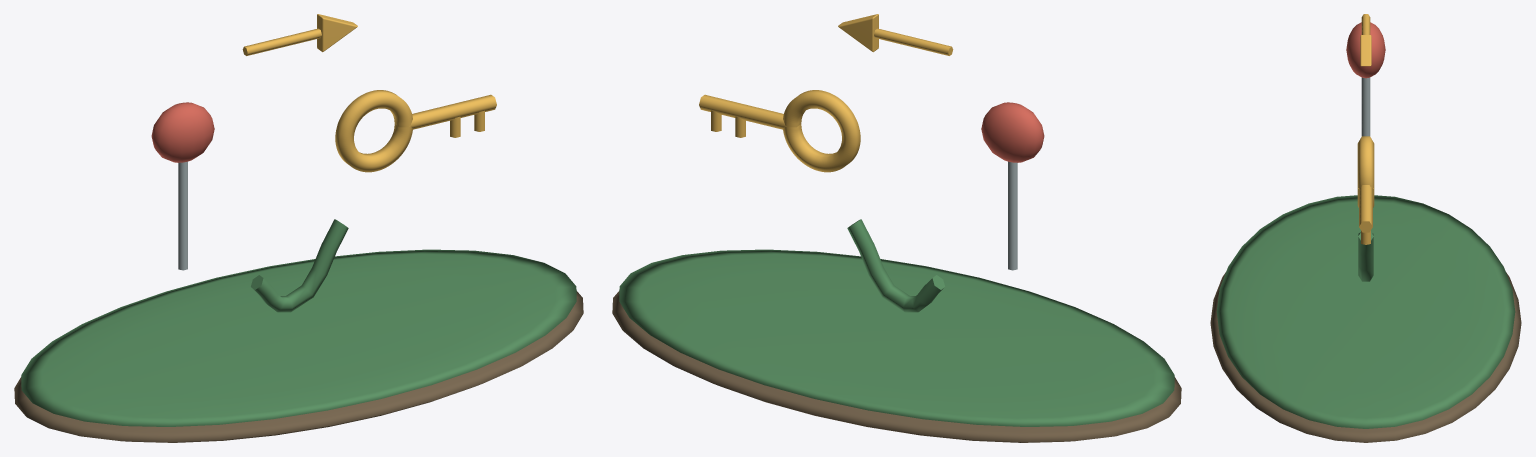
The model's file is complete-first-therefore-method-place.glb.
The picture shows the model from 3 angles, left to right: view 1: azimuth 30°, elevation 25°; view 2: azimuth 150°, elevation 25°; view 3: azimuth 270°, elevation 25°; orthographic projection. The views are drawn at different scales.
Visible parts, largest first — view 1: complete-first-therefore-method-place_surface_01, complete-first-therefore-method-place_surface_00, complete-first-therefore-method-place_surface_04, complete-first-therefore-method-place_surface_03, complete-first-therefore-method-place_surface_02; view 2: complete-first-therefore-method-place_surface_01, complete-first-therefore-method-place_surface_00, complete-first-therefore-method-place_surface_04, complete-first-therefore-method-place_surface_03, complete-first-therefore-method-place_surface_02; view 3: complete-first-therefore-method-place_surface_01, complete-first-therefore-method-place_surface_00, complete-first-therefore-method-place_surface_04, complete-first-therefore-method-place_surface_03, complete-first-therefore-method-place_surface_02.
Boxes of the visible parts, left/top/right/bottom form: complete-first-therefore-method-place_surface_01: left=21, top=219, right=576, bottom=426; complete-first-therefore-method-place_surface_00: left=14, top=291, right=583, bottom=442; complete-first-therefore-method-place_surface_04: left=242, top=14, right=496, bottom=172; complete-first-therefore-method-place_surface_03: left=151, top=102, right=214, bottom=162; complete-first-therefore-method-place_surface_02: left=178, top=161, right=187, bottom=270; complete-first-therefore-method-place_surface_01: left=619, top=219, right=1174, bottom=426; complete-first-therefore-method-place_surface_00: left=612, top=291, right=1181, bottom=442; complete-first-therefore-method-place_surface_04: left=699, top=14, right=953, bottom=172; complete-first-therefore-method-place_surface_03: left=981, top=102, right=1044, bottom=162; complete-first-therefore-method-place_surface_02: left=1008, top=161, right=1017, bottom=270; complete-first-therefore-method-place_surface_01: left=1216, top=195, right=1515, bottom=428; complete-first-therefore-method-place_surface_00: left=1210, top=272, right=1521, bottom=442; complete-first-therefore-method-place_surface_04: left=1357, top=14, right=1374, bottom=244; complete-first-therefore-method-place_surface_03: left=1346, top=22, right=1385, bottom=78; complete-first-therefore-method-place_surface_02: left=1361, top=77, right=1370, bottom=136.
Bounding box in the file's own units: 4.56 × 2.77 × 2.5.
